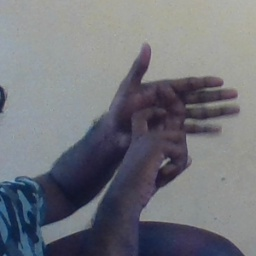R: (91, 37, 246, 191)
